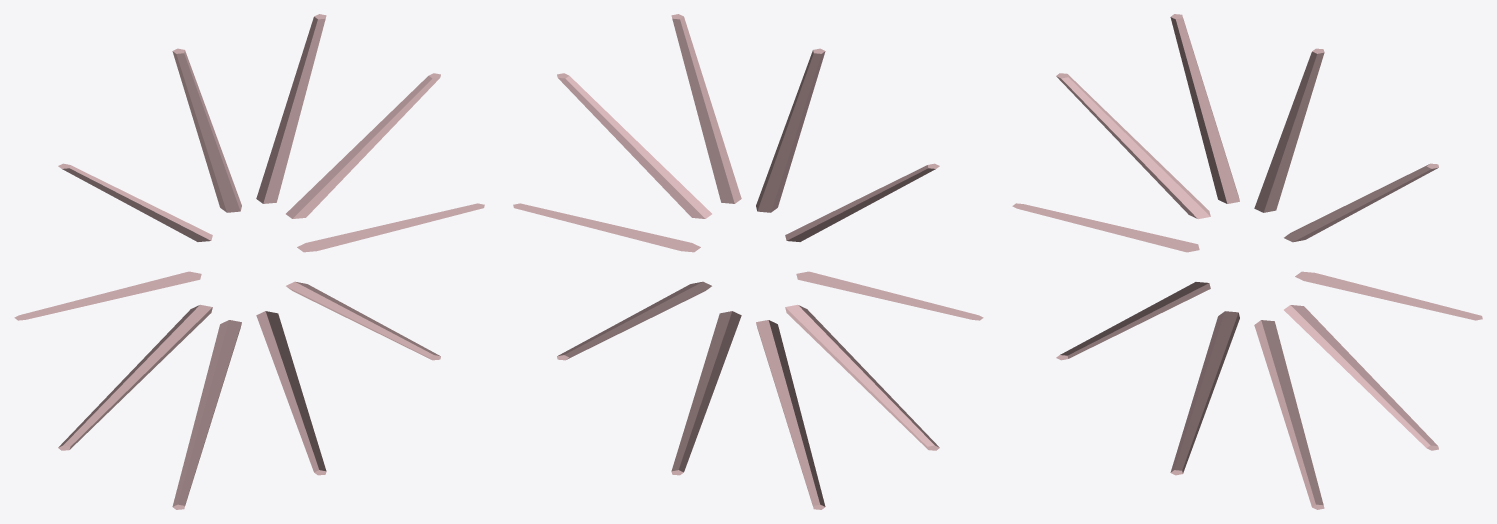
Rendered from mole_star.glb.
3 renders of one model, left to right at view 1: azimuth 30°, elevation 25°; view 2: azimuth 150°, elevation 25°; view 3: azimuth 330°, elevation 25°, orthographic.
Visible parts, largest first — view 1: mole_star; view 2: mole_star; view 3: mole_star.
Boxes of the visible parts, x1,y1,x2,y2 form: mole_star: (14, 14, 484, 509); mole_star: (513, 14, 983, 509); mole_star: (1012, 14, 1482, 509).
Size of the model in its own units: 0.0962 by 0.0894 by 0.00399.
